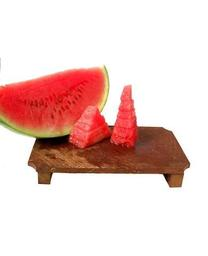watermelon: (1, 66, 141, 146)
